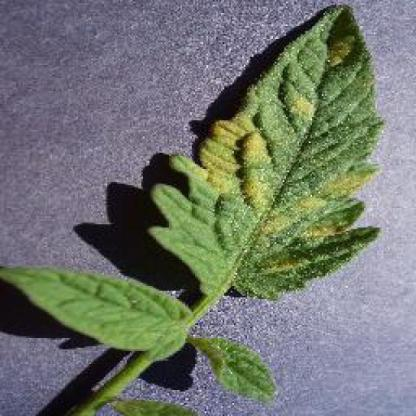Tomato_Leaf_Mold: (152, 4, 384, 293)
